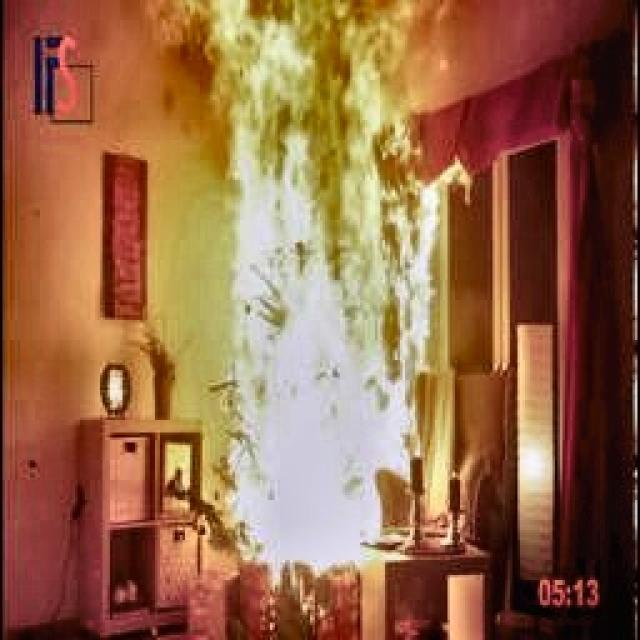fire: (144, 4, 466, 574)
